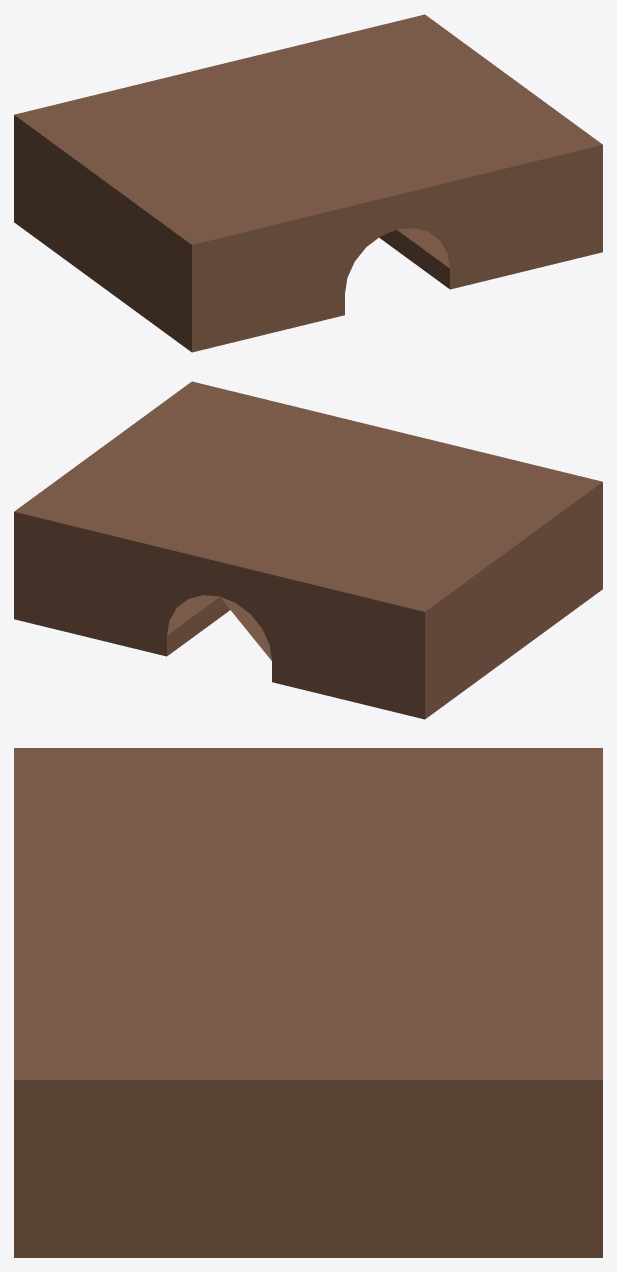
Rendered from Block_Aquaduct.fbx.
3 renders of one model, top to bottom at view 1: azimuth 30°, elevation 25°; view 2: azimuth 150°, elevation 25°; view 3: azimuth 270°, elevation 25°, orthographic. The views are drawn at different scales.
Visible parts, largest first — view 1: Block_waterway cutout; view 2: Block_waterway cutout; view 3: Block_waterway cutout.
Part boxes in pixels (box(x1,y1,x2,y2)): Block_waterway cutout: box(14, 14, 602, 352); Block_waterway cutout: box(14, 381, 602, 719); Block_waterway cutout: box(14, 748, 602, 1257).
Size of the model in its own units: 4 by 1 by 3.
